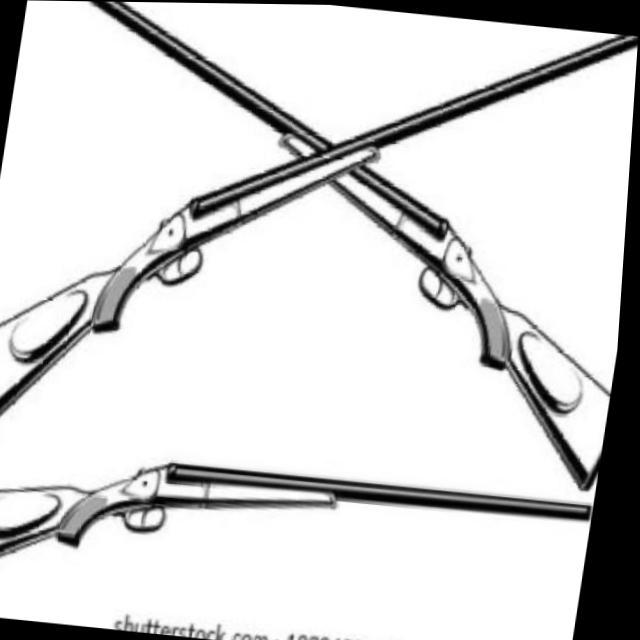weapon: (0, 0, 640, 492), (0, 436, 603, 640)
